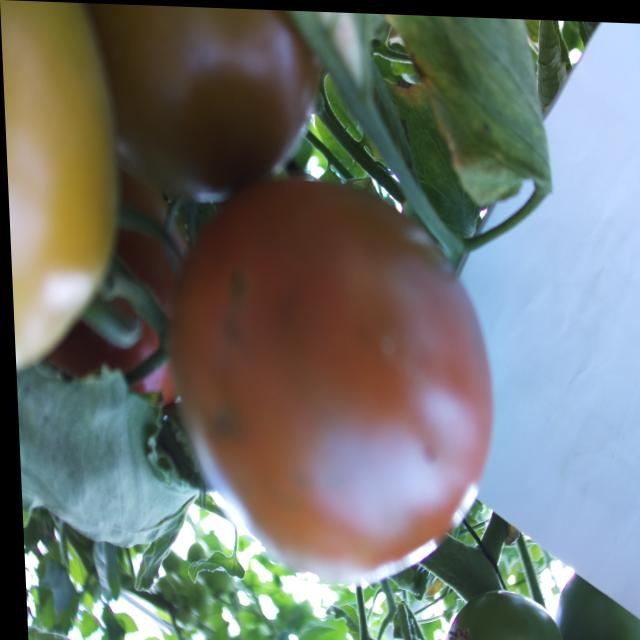kirmizi: (151, 108, 484, 584)
